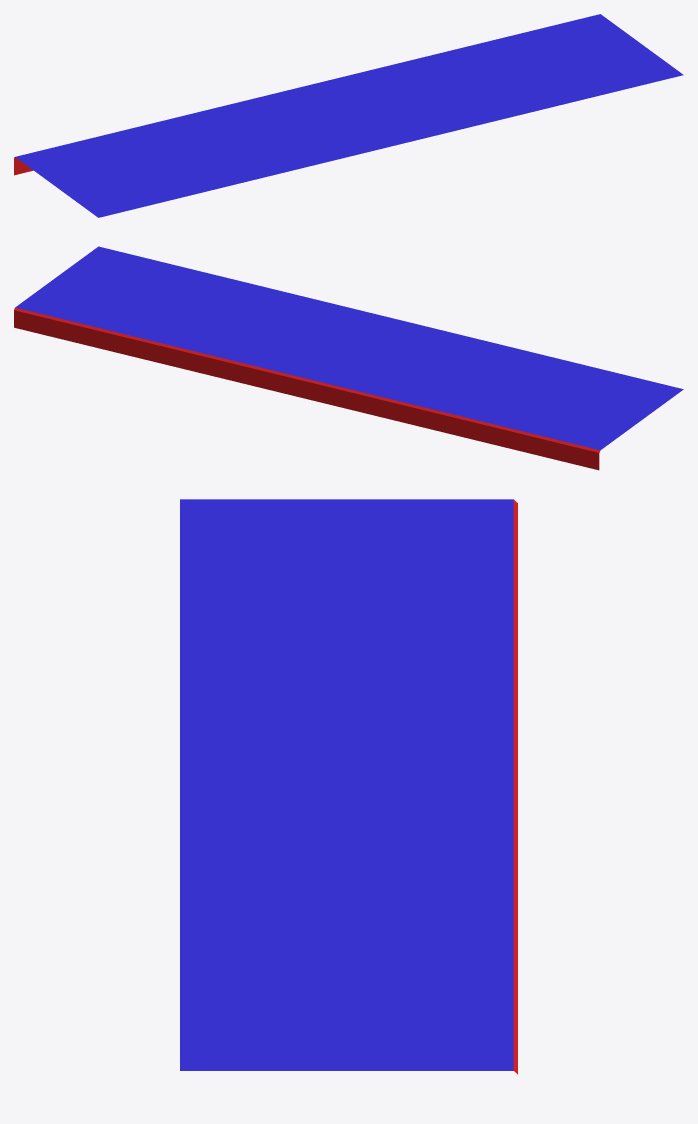
The model's file is SideWalk_large_incomplete.fbx.
3 renders of one model, top to bottom at view 1: azimuth 30°, elevation 25°; view 2: azimuth 150°, elevation 25°; view 3: azimuth 270°, elevation 25°, orthographic. The views are drawn at different scales.
Visible parts, largest first — view 1: Calzada_incompleta larga; view 2: Calzada_incompleta larga; view 3: Calzada_incompleta larga.
Boxes of the visible parts, box(x1,y1,x2,y2) form: Calzada_incompleta larga: box(14, 14, 683, 217); Calzada_incompleta larga: box(14, 246, 683, 470); Calzada_incompleta larga: box(180, 499, 517, 1074).
Bounding box in the file's own units: 3200 × 101 × 800.
